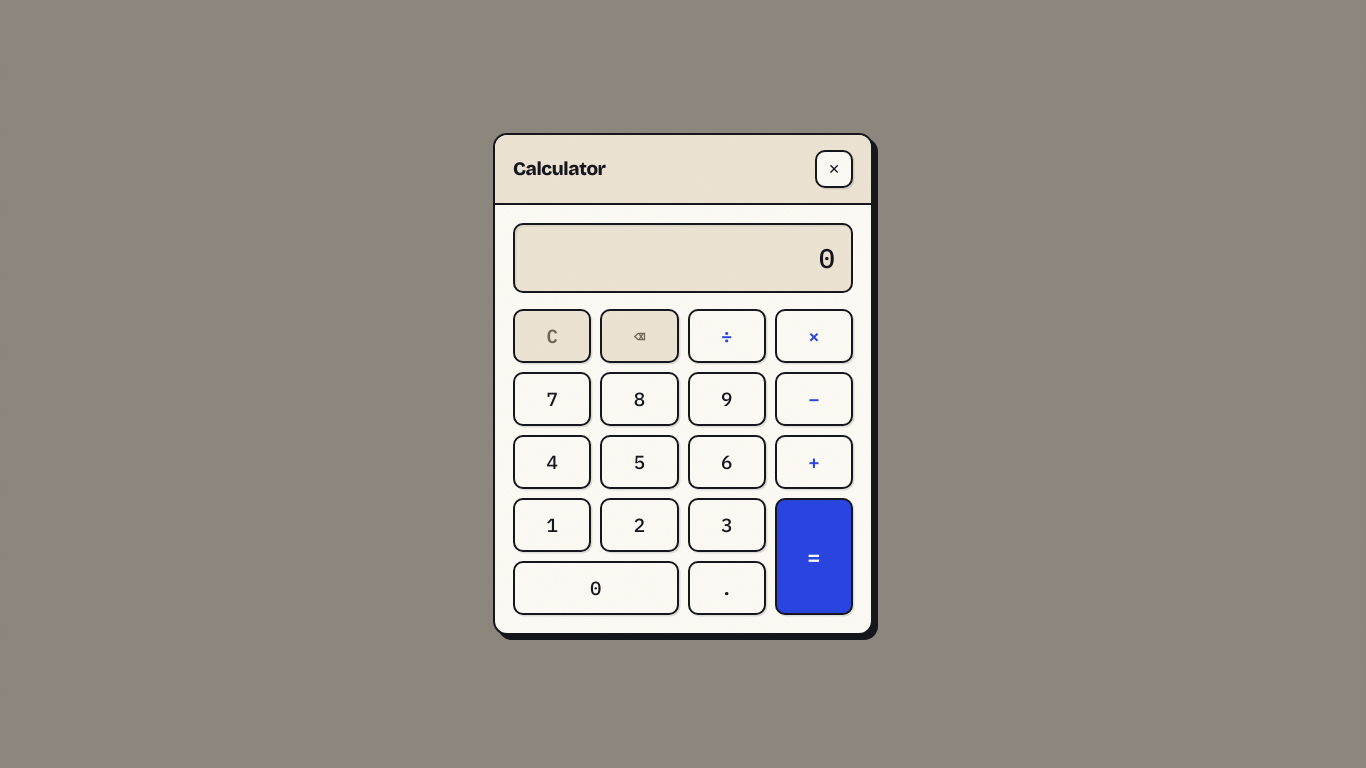
Test: Calculator UI › handles decimals
Click the button "1" at (552, 525), box [513, 498, 591, 552]
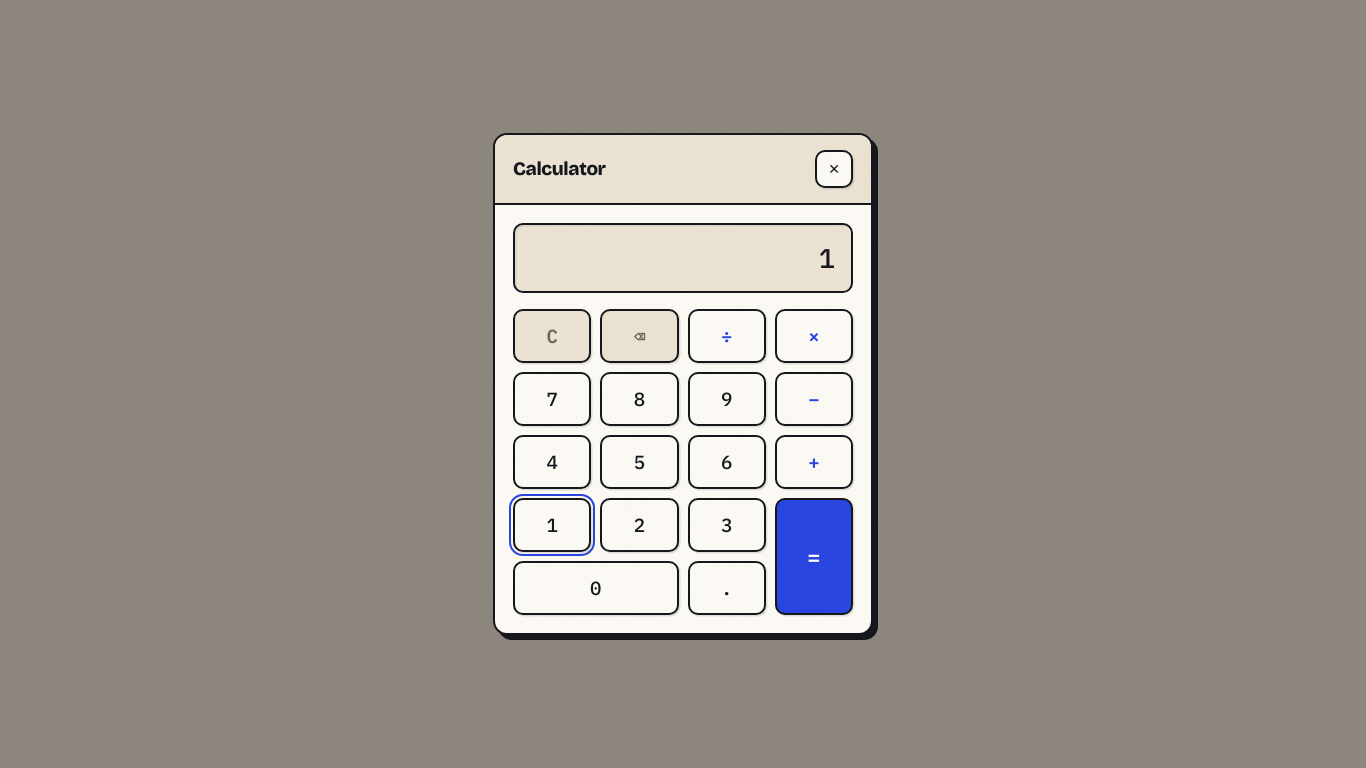
Click the button "." at (727, 588), box [688, 561, 766, 615]
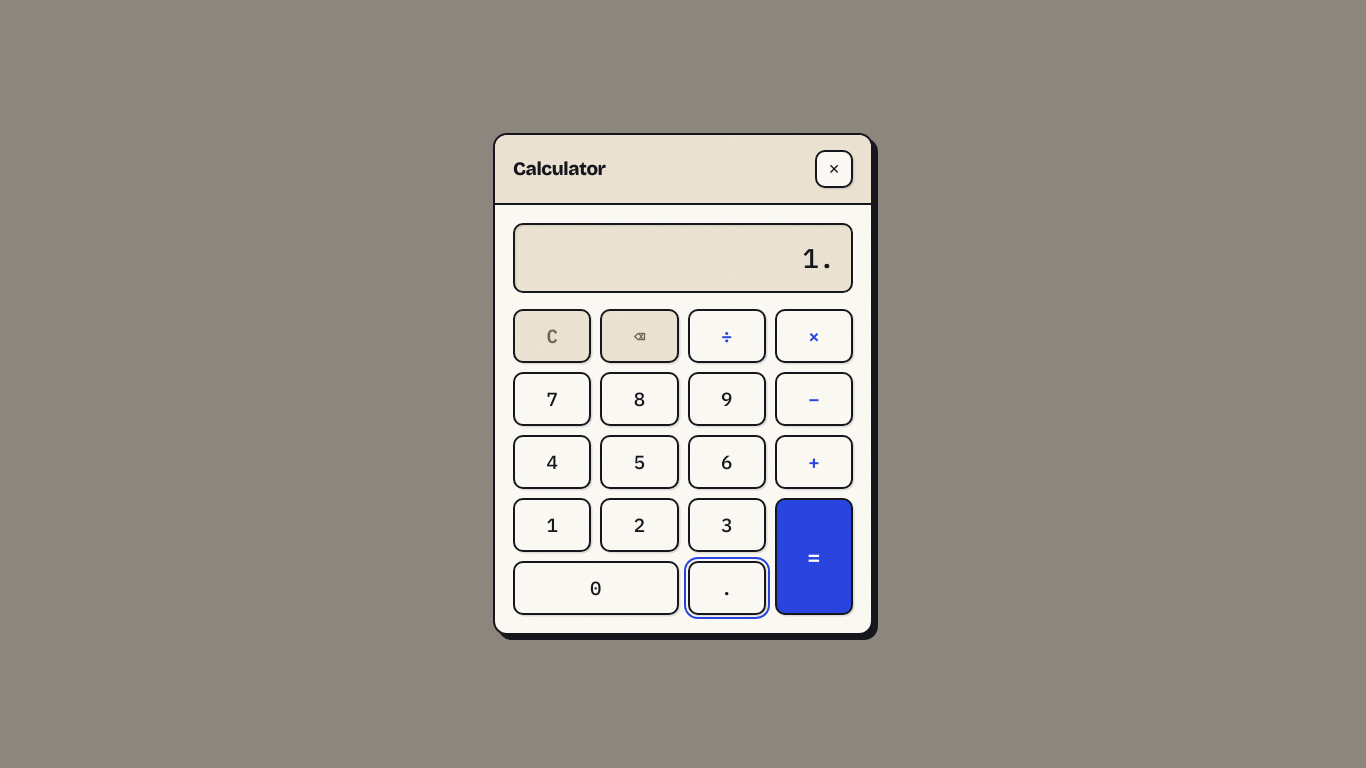
Click the button "5" at (639, 462), box [600, 435, 679, 489]
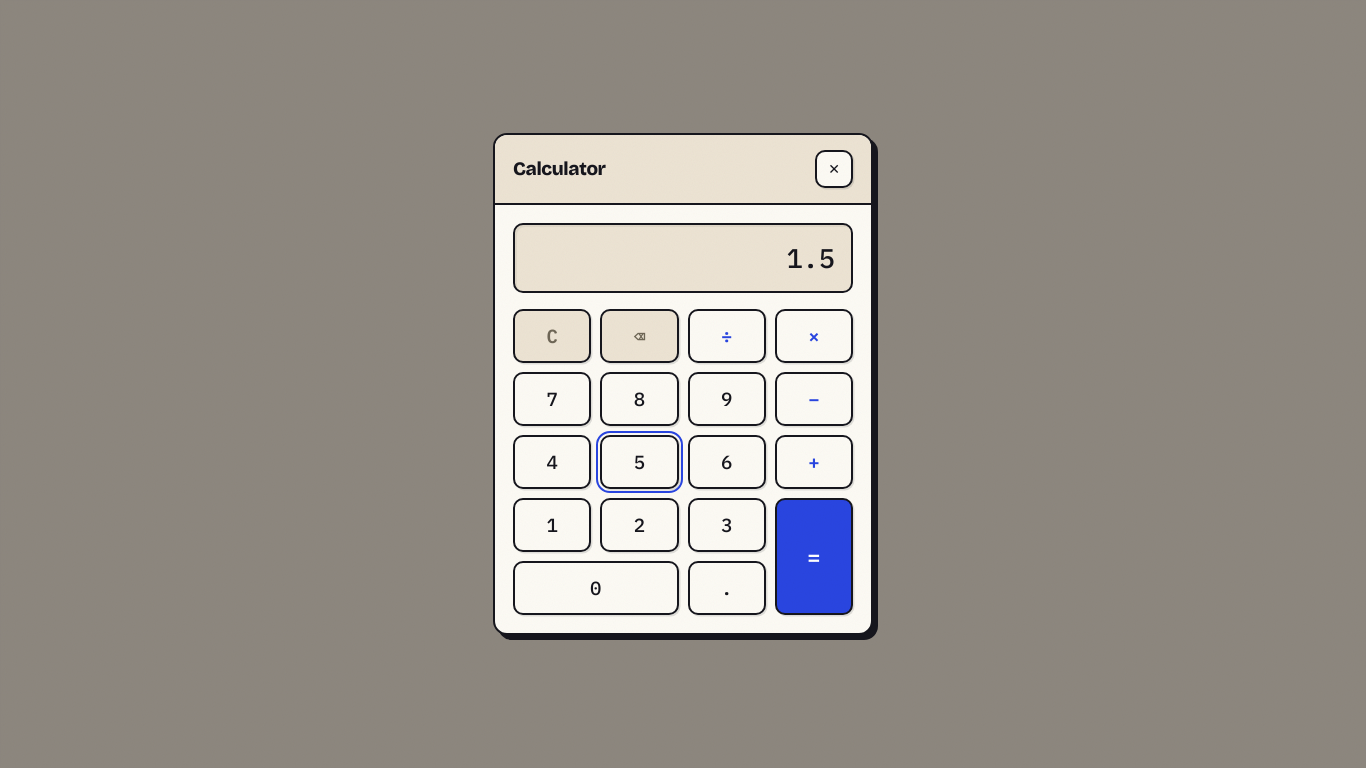
Click the button "×" at (814, 336), box [775, 309, 853, 363]
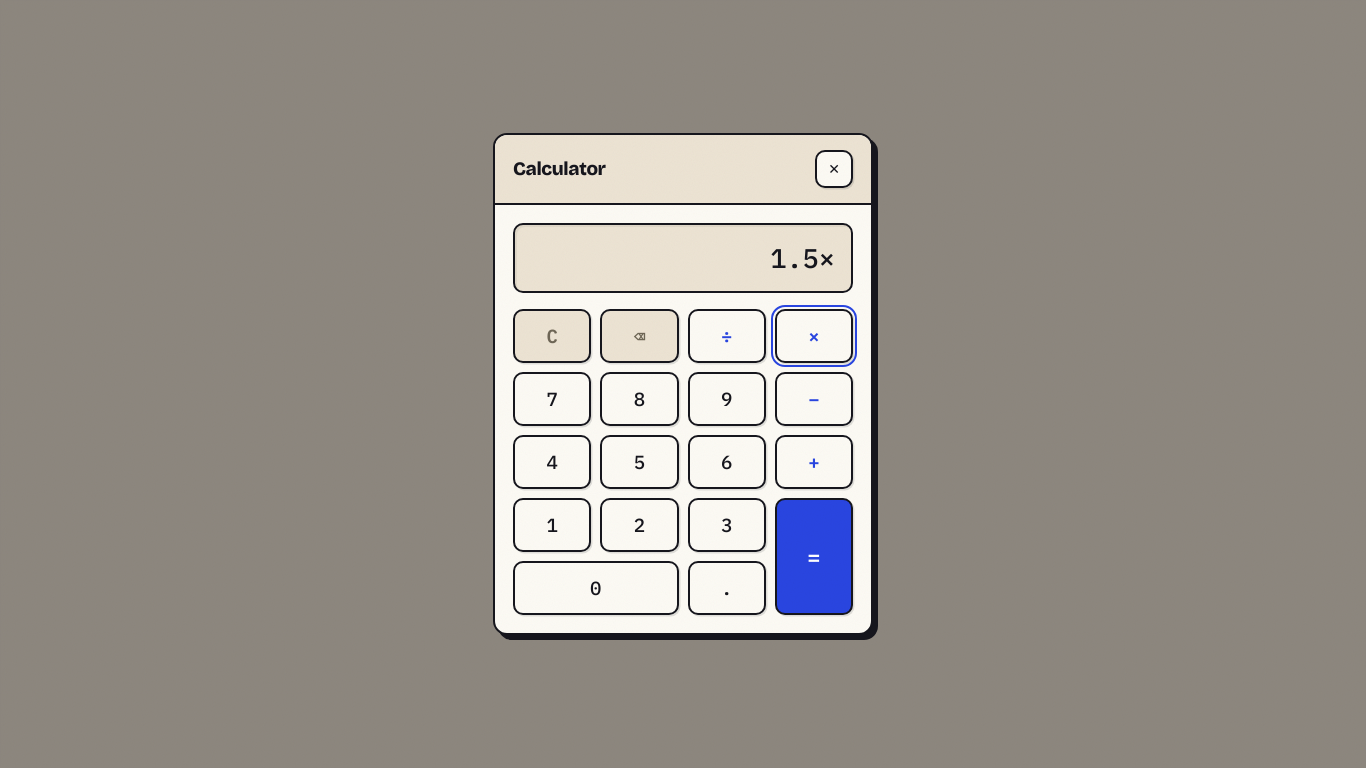
Click the button "2" at (639, 525), box [600, 498, 679, 552]
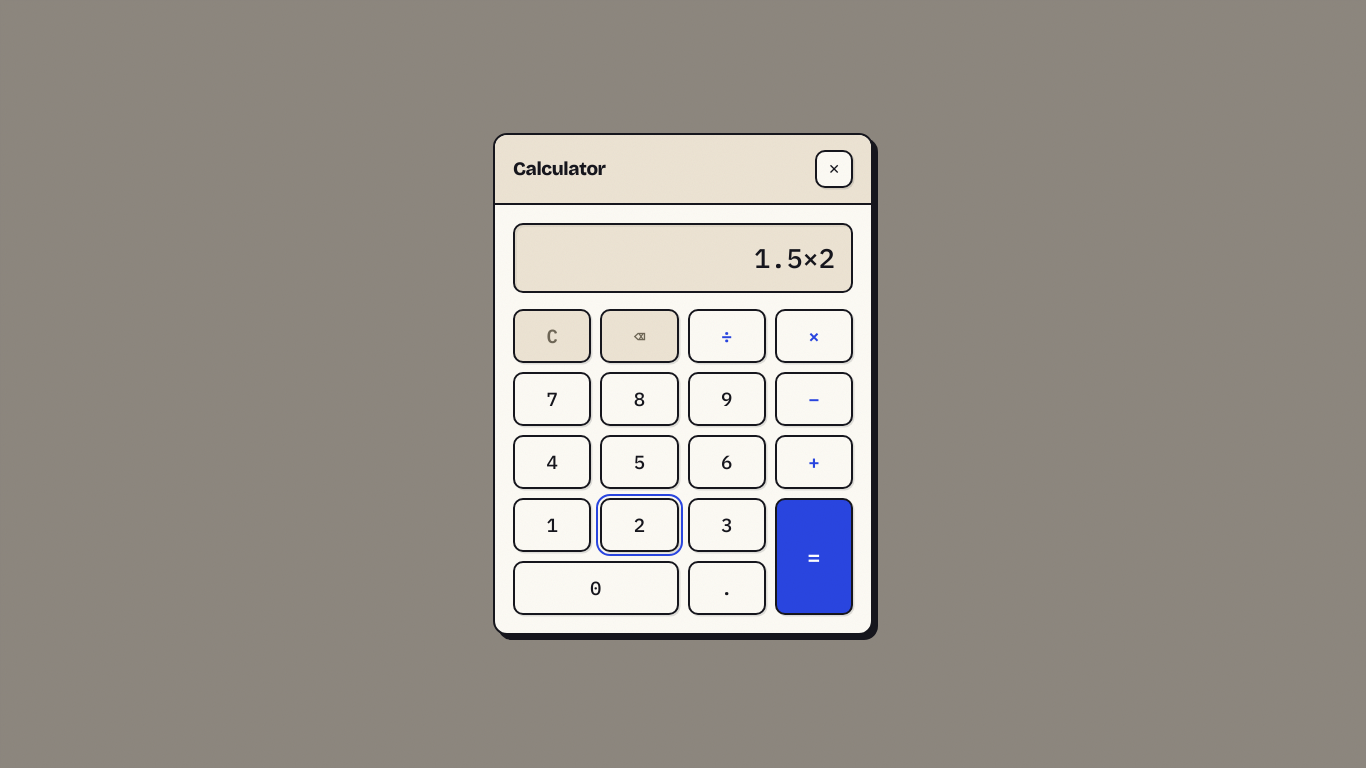
Click the button "=" at (814, 556), box [775, 498, 853, 615]
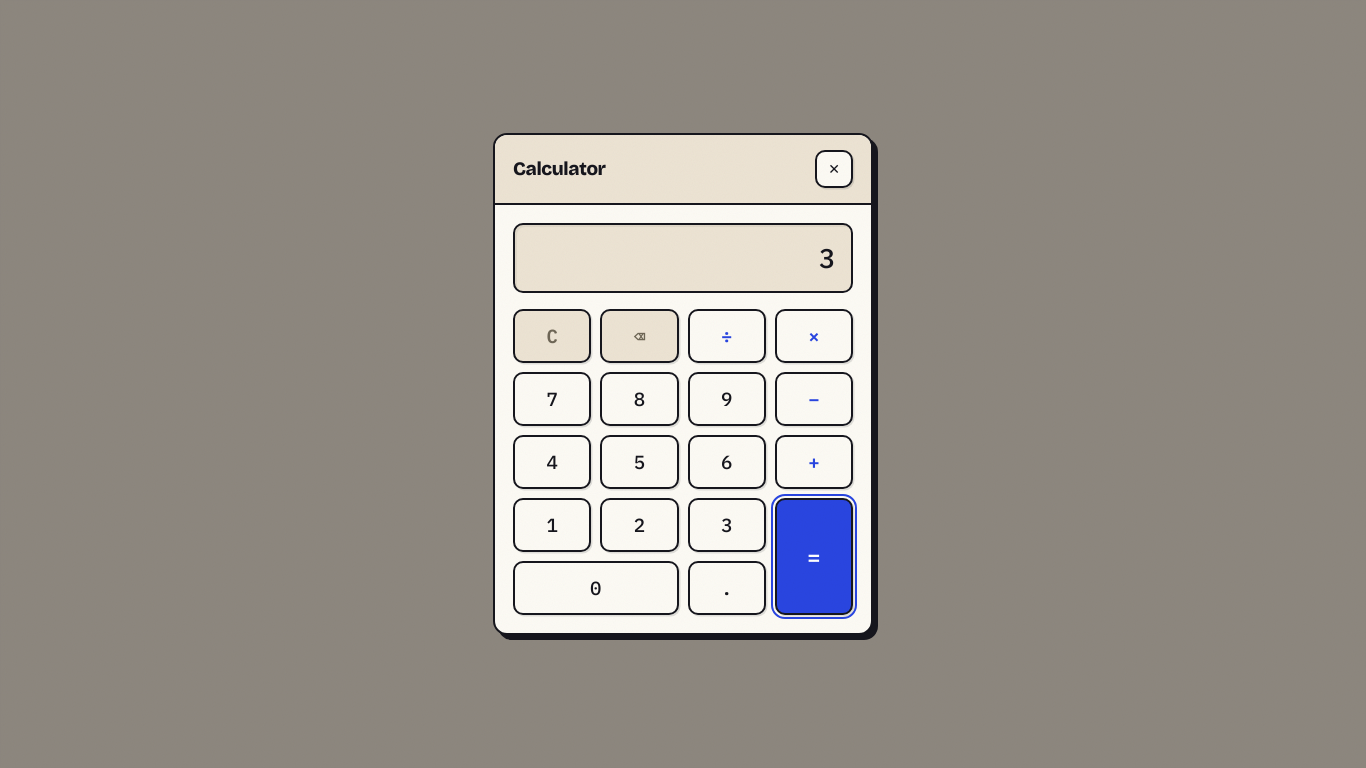
Check: the text with test id "calc-display" reads "3", box [819, 240, 835, 275]
